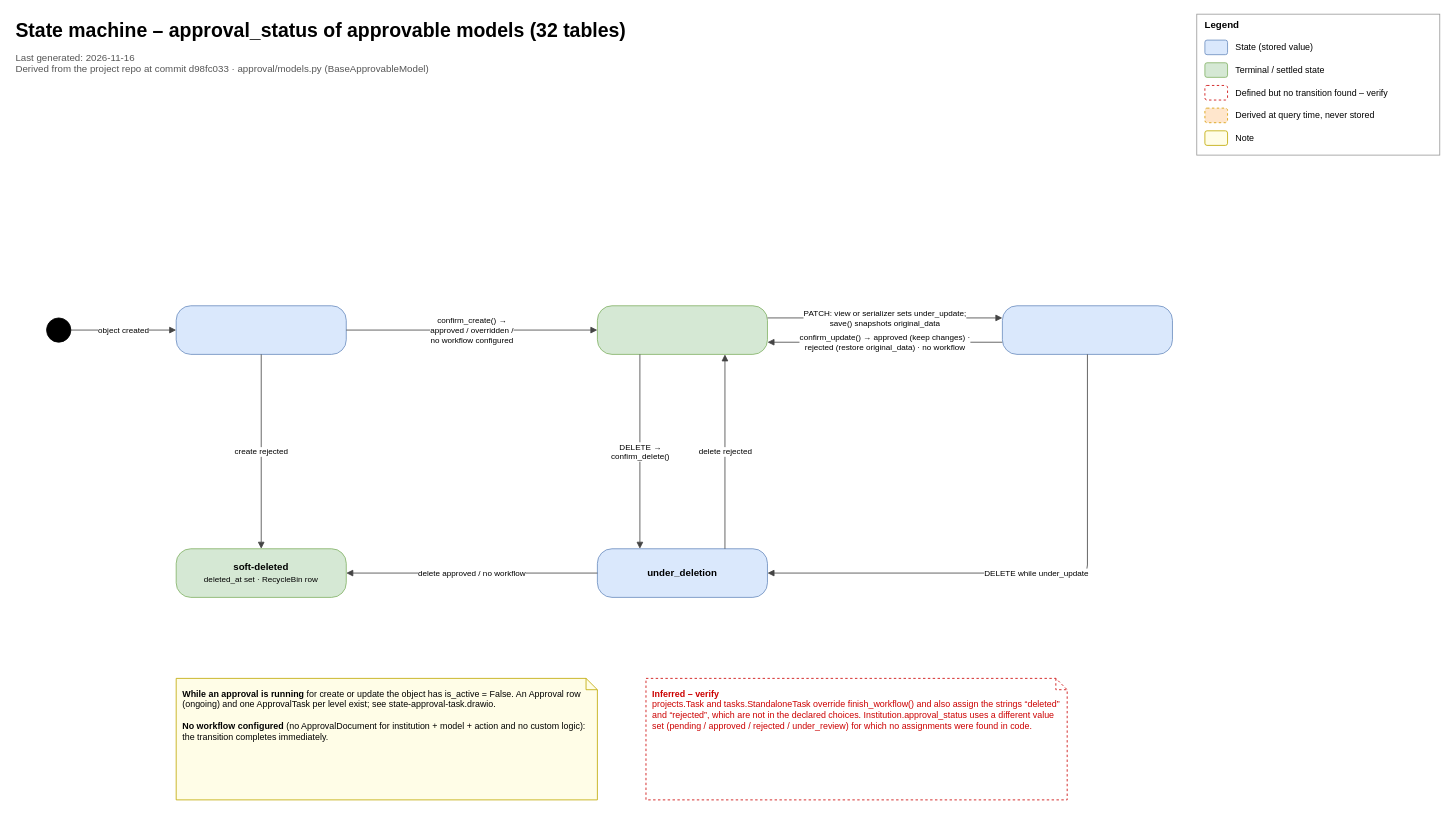
The diagram is 1454 pixels wide and 814 high, and some of its shapes have lost their labels. Here are the shapes that lost their labels. From the top down, the centre of each, then its label:
At pixel 260 329: "under_creation".
At pixel 682 329: "active".
At pixel 1087 329: "under_update".
